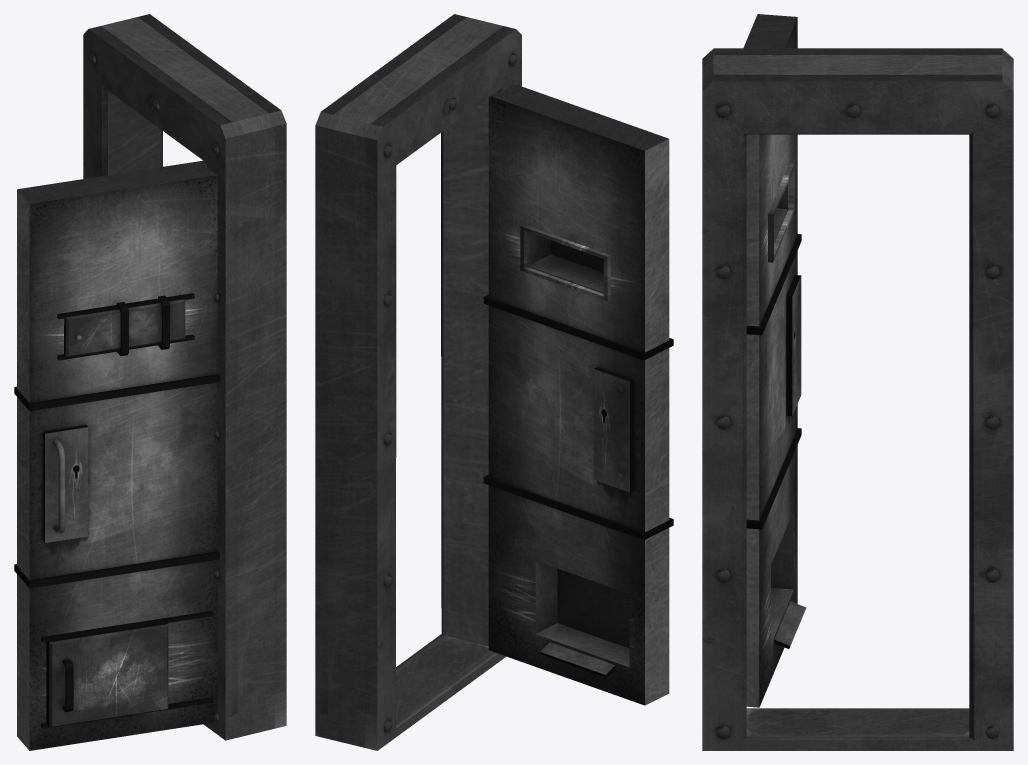
Rendered from door_open.FBX.
3 views of the same model, side by side, from view 1: azimuth 30°, elevation 25°; view 2: azimuth 150°, elevation 25°; view 3: azimuth 270°, elevation 25° (orthographic). The views are drawn at different scales.
Parts seen in each view (by area): view 1: Door_open; view 2: Door_open; view 3: Door_open.
Boxes of the visible parts, x1,y1,x2,y2 form: Door_open: (14,14,286,750); Door_open: (315,14,673,750); Door_open: (702,14,1013,750).
Size of the model in its own units: 53.72 by 132 by 55.73.
